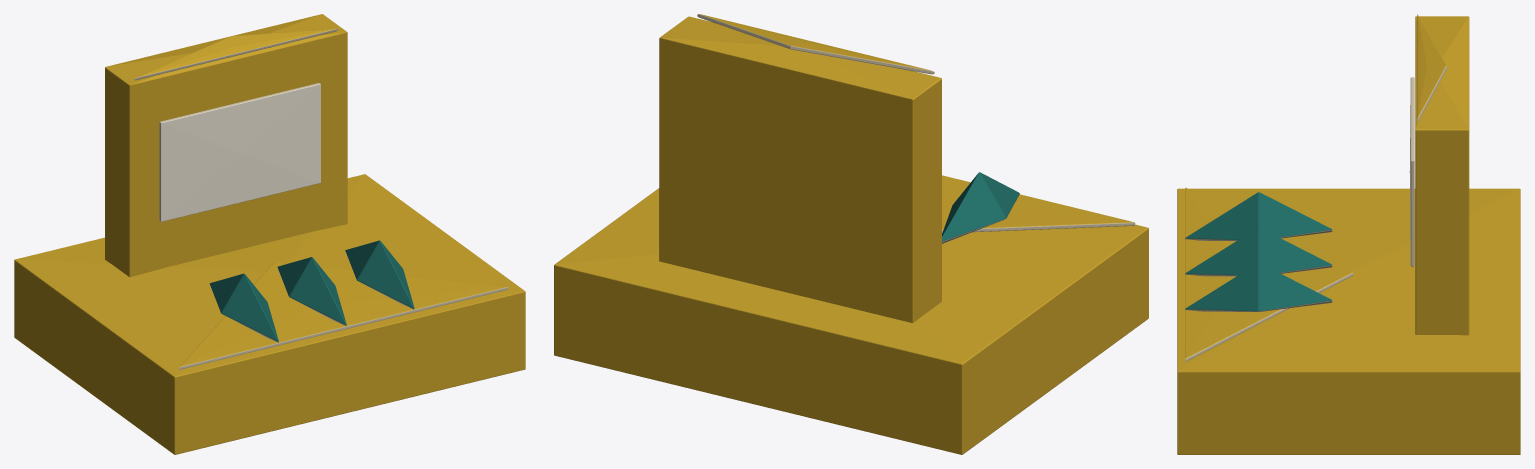
Rendered from achievement-gold-badge.glb.
3 renders of one model, left to right at view 1: azimuth 30°, elevation 25°; view 2: azimuth 150°, elevation 25°; view 3: azimuth 270°, elevation 25°, orthographic. The views are drawn at different scales.
Parts seen in each view (by area): view 1: achievement-gold-badge; view 2: achievement-gold-badge; view 3: achievement-gold-badge.
Part boxes in pixels (x1,y1,x2,y2): achievement-gold-badge: (14, 14, 525, 454); achievement-gold-badge: (554, 14, 1148, 454); achievement-gold-badge: (1177, 14, 1520, 454).
Bounding box in the file's own units: 1.35 × 1.03 × 1.07.
